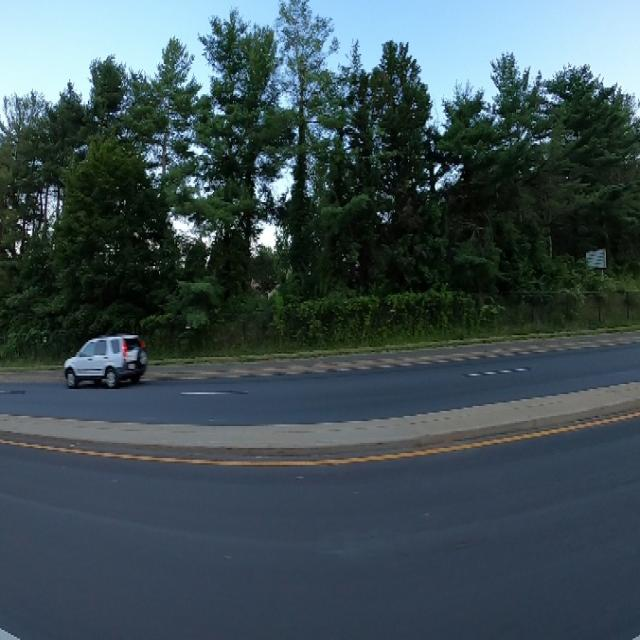car: (58, 325, 153, 394)
